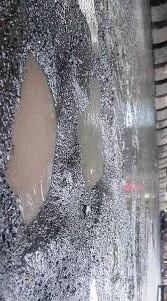pothole: (4, 49, 60, 227), (74, 79, 107, 188), (84, 3, 100, 58)
